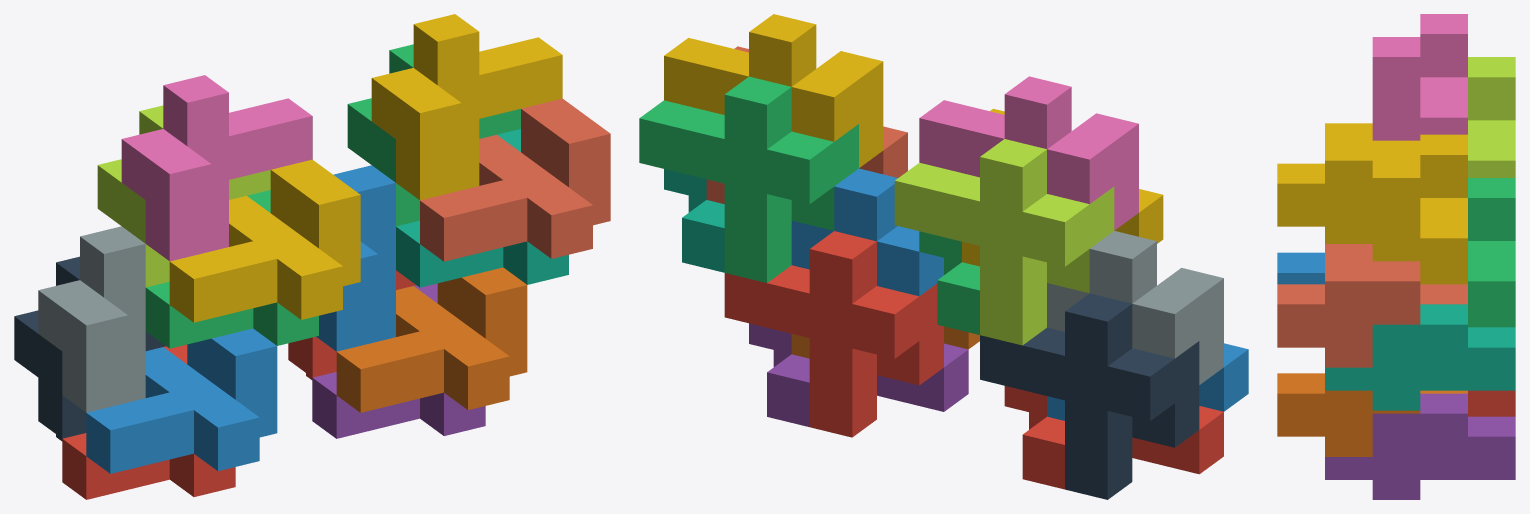
File: tiling.obj
3 renders of one model, left to right at view 1: azimuth 30°, elevation 25°; view 2: azimuth 150°, elevation 25°; view 3: azimuth 270°, elevation 25°, orthographic. The views are drawn at different scales.
Visible parts, largest first — view 1: copy_1_domain_4, copy_1_domain_8, copy_2_domain_8, copy_2_domain_4, copy_1_domain_2, copy_1_domain_6, copy_2_domain_2, copy_2_domain_6, copy_1_domain_3, copy_1_domain_7, copy_1_domain_1, copy_1_domain_5 (+4 smaller); view 2: copy_2_domain_1, copy_2_domain_7, copy_2_domain_3, copy_2_domain_5, copy_2_domain_8, copy_2_domain_4, copy_2_domain_2, copy_2_domain_6, copy_1_domain_5, copy_1_domain_1, copy_1_domain_7, copy_1_domain_3 (+4 smaller); view 3: copy_1_domain_8, copy_1_domain_7, copy_1_domain_5, copy_2_domain_8, copy_2_domain_4, copy_1_domain_4, copy_2_domain_7, copy_1_domain_6, copy_2_domain_3, copy_1_domain_2, copy_2_domain_5.
Part boxes in pixels (<box>): copy_1_domain_4: <box>169,159,360,322</box>; copy_1_domain_8: <box>420,98,610,261</box>; copy_2_domain_8: <box>371,14,562,200</box>; copy_2_domain_4: <box>121,75,312,261</box>; copy_1_domain_2: <box>86,328,277,473</box>; copy_1_domain_6: <box>336,267,527,412</box>; copy_2_domain_2: <box>38,226,145,412</box>; copy_2_domain_6: <box>316,165,395,351</box>; copy_1_domain_3: <box>145,190,318,348</box>; copy_1_domain_7: <box>396,129,568,287</box>; copy_1_domain_1: <box>62,344,235,499</box>; copy_1_domain_5: <box>312,283,485,438</box>; copy_2_domain_1: <box>980,293,1199,499</box>; copy_2_domain_7: <box>639,76,858,282</box>; copy_2_domain_3: <box>894,139,1114,345</box>; copy_2_domain_5: <box>724,231,943,437</box>; copy_2_domain_8: <box>664,14,883,167</box>; copy_2_domain_4: <box>919,76,1138,230</box>; copy_2_domain_2: <box>1047,231,1223,384</box>; copy_2_domain_6: <box>791,168,943,296</box>; copy_1_domain_5: <box>749,323,968,426</box>; copy_1_domain_1: <box>1004,386,1223,489</box>; copy_1_domain_7: <box>664,169,724,272</box>; copy_1_domain_3: <box>919,231,979,334</box>; copy_1_domain_8: <box>1277,244,1467,367</box>; copy_1_domain_7: <box>1325,304,1515,410</box>; copy_1_domain_5: <box>1325,393,1515,499</box>; copy_2_domain_8: <box>1372,134,1467,284</box>; copy_2_domain_4: <box>1372,14,1467,140</box>; copy_1_domain_4: <box>1277,123,1420,243</box>; copy_2_domain_7: <box>1468,178,1515,327</box>; copy_1_domain_6: <box>1277,373,1467,456</box>; copy_2_domain_3: <box>1468,57,1515,177</box>; copy_1_domain_2: <box>1277,252,1324,284</box>; copy_2_domain_5: <box>1468,390,1515,416</box>.
Size of the model in its own units: 12 by 8 by 5.
